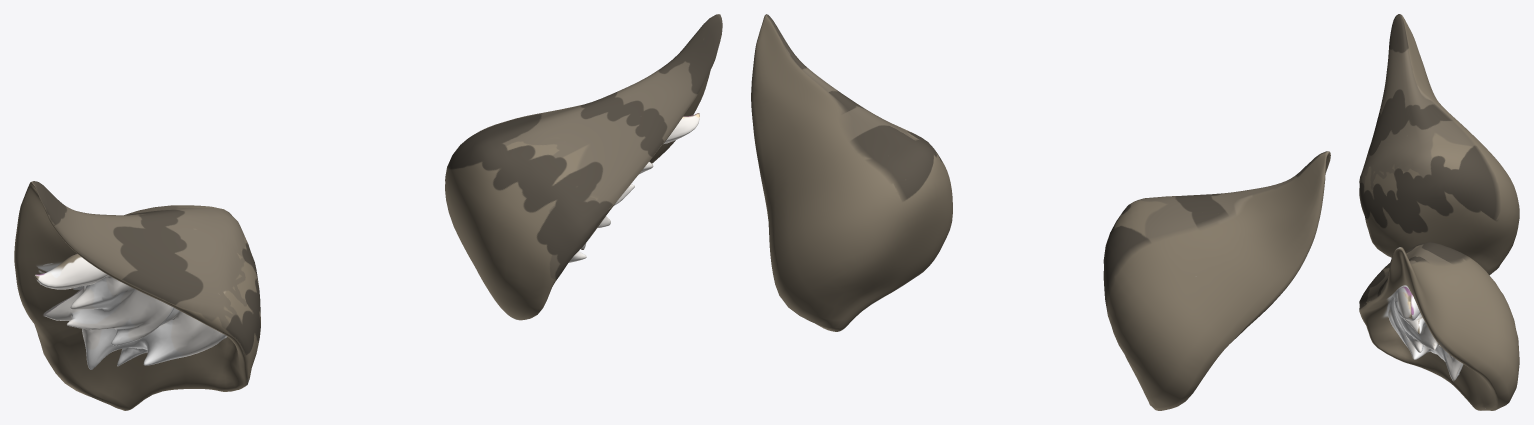
Rendered from orejas.glb.
3 renders of one model, left to right at view 1: azimuth 30°, elevation 25°; view 2: azimuth 150°, elevation 25°; view 3: azimuth 270°, elevation 25°, orthographic. The views are drawn at different scales.
Visible parts, largest first — view 1: animal_ears_1.1_1; view 2: animal_ears_1.1_1; view 3: animal_ears_1.1_1.
Boxes of the visible parts, left/top/right/bottom form: animal_ears_1.1_1: left=14, top=14, right=722, bottom=410; animal_ears_1.1_1: left=751, top=14, right=1330, bottom=410; animal_ears_1.1_1: left=1359, top=14, right=1519, bottom=410.
Size of the model in its own units: 1.49 by 0.63 by 0.4286.
1 material, 1 textured.
